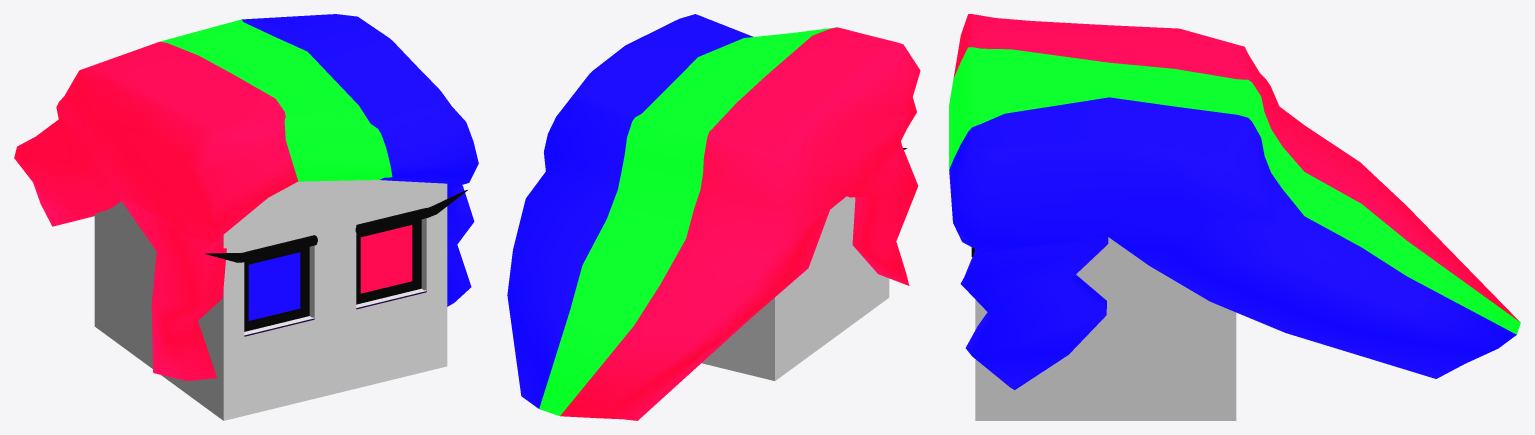
The model's file is RGB Cube Lady 2 NLA Test.fbx.
The picture shows the model from 3 angles, left to right: view 1: azimuth 30°, elevation 25°; view 2: azimuth 150°, elevation 25°; view 3: azimuth 270°, elevation 25°; orthographic projection. The views are drawn at different scales.
Parts seen in each view (by area): view 1: Hair, RDG Cube Lady; view 2: Hair, RDG Cube Lady; view 3: Hair, RDG Cube Lady.
Part boxes in pixels (box(x1,y1,x2,y2)): Hair: box(14, 14, 478, 381); RDG Cube Lady: box(94, 180, 467, 420); Hair: box(507, 14, 920, 420); RDG Cube Lady: box(701, 148, 907, 380); Hair: box(949, 14, 1520, 389); RDG Cube Lady: box(971, 237, 1236, 420).
Bounding box in the file's own units: 269 × 438 × 250.
